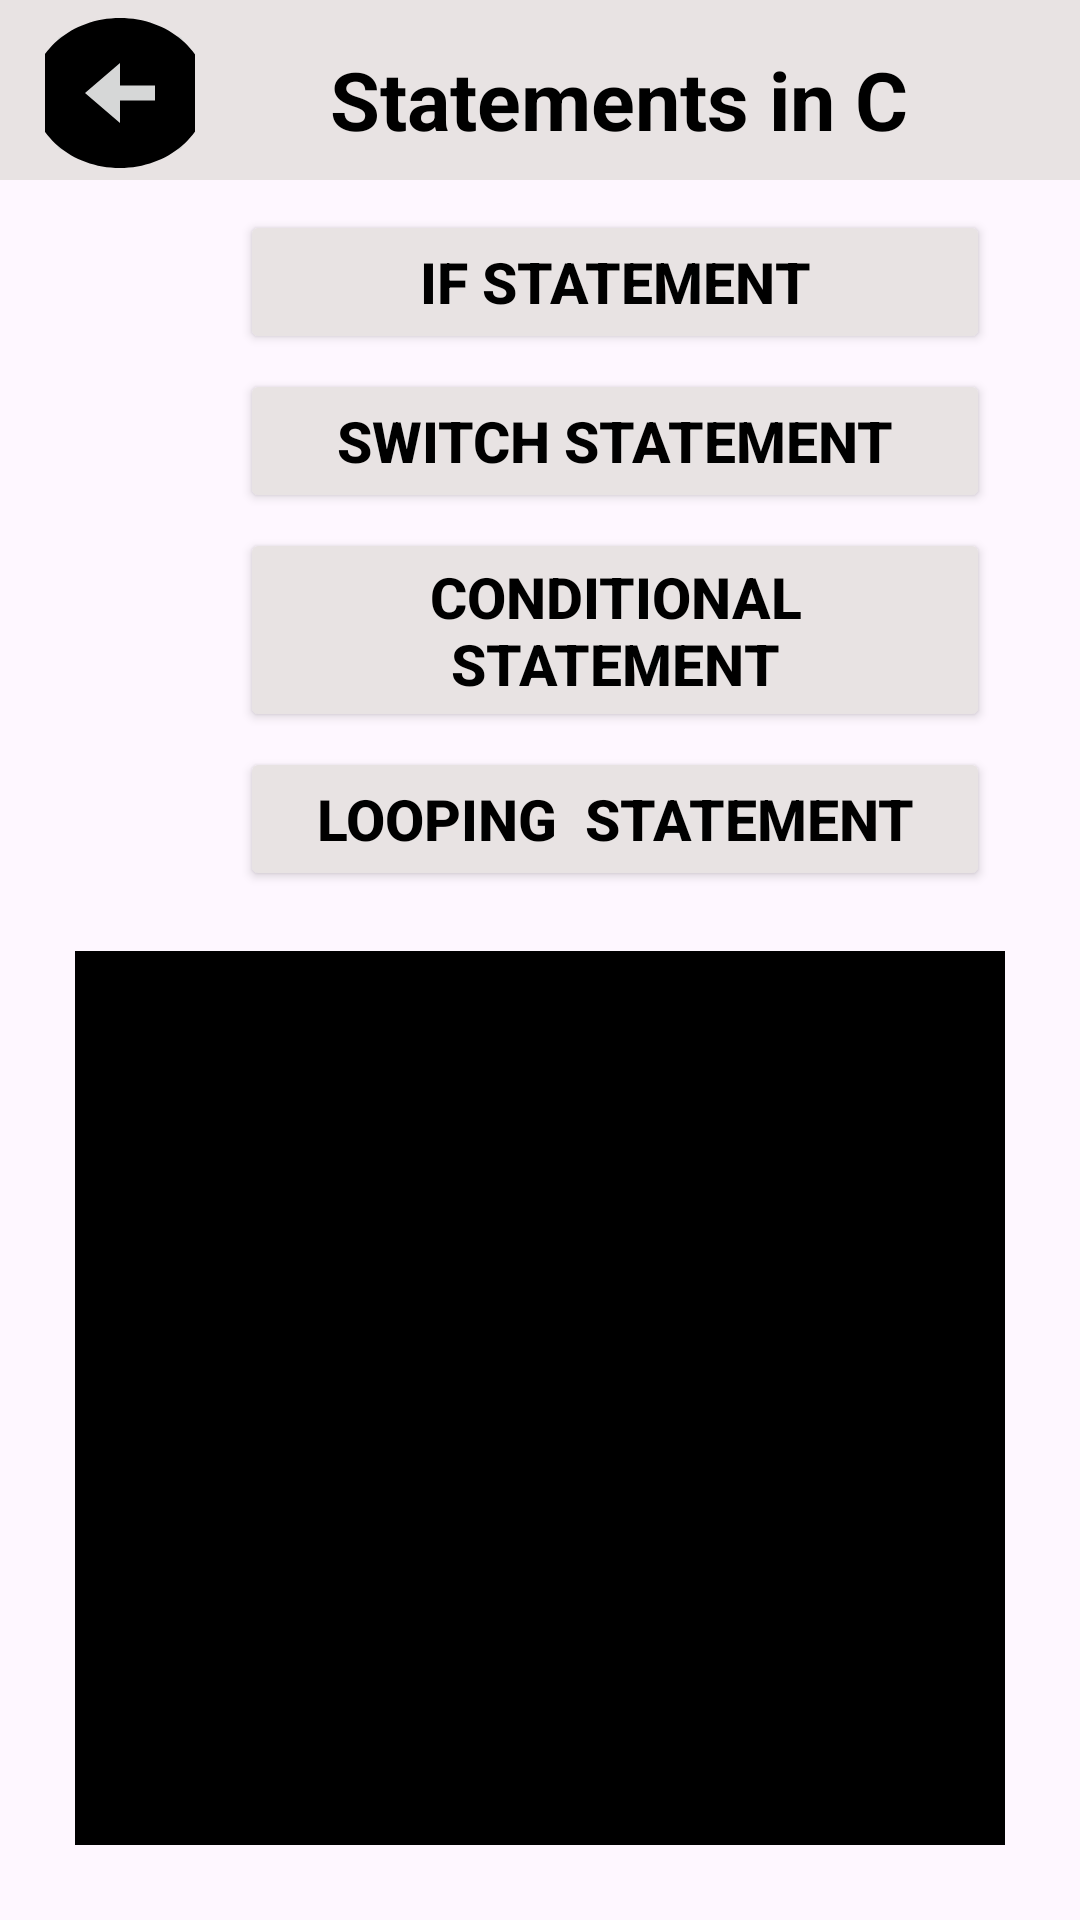

Point at icon controls on the screen. Image size 1080px×1920px, points as (x,y).
arrow circle left: (120,93)
